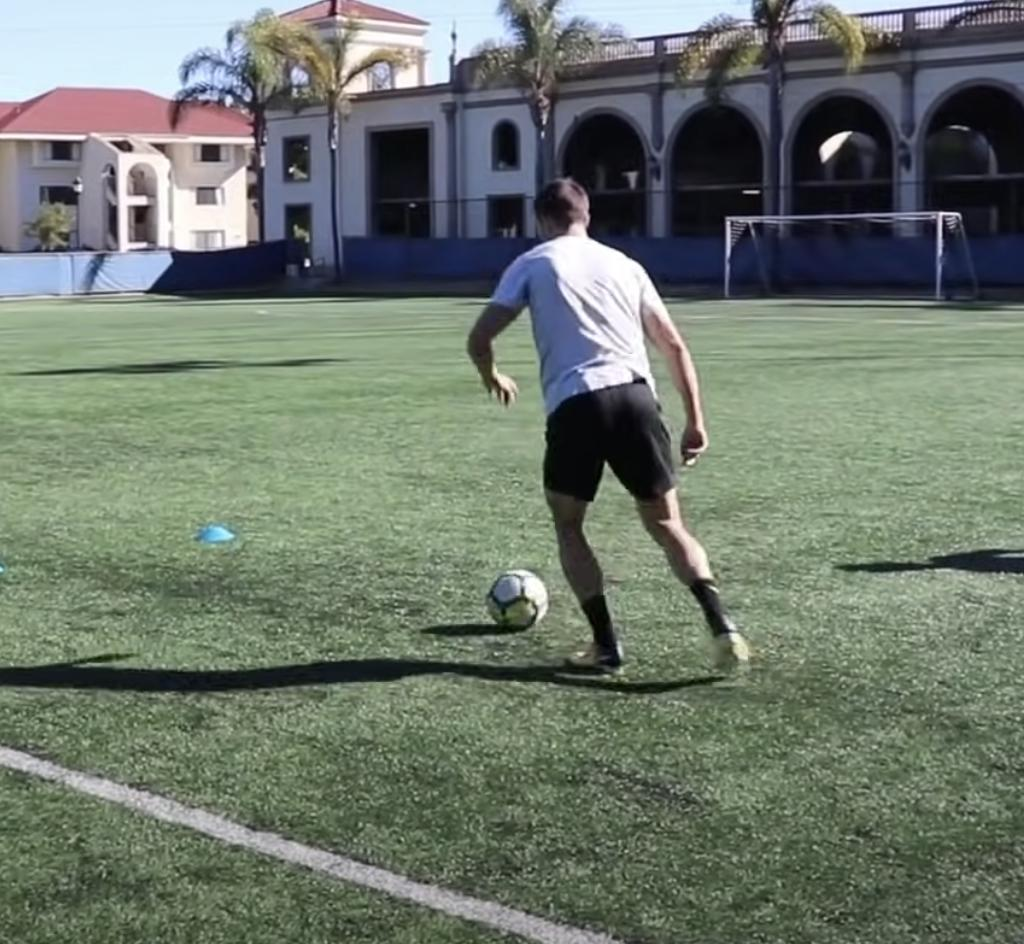ball: (486, 569, 547, 628)
foot: (702, 620, 756, 679), (562, 637, 630, 680)
person: (468, 178, 749, 678)
